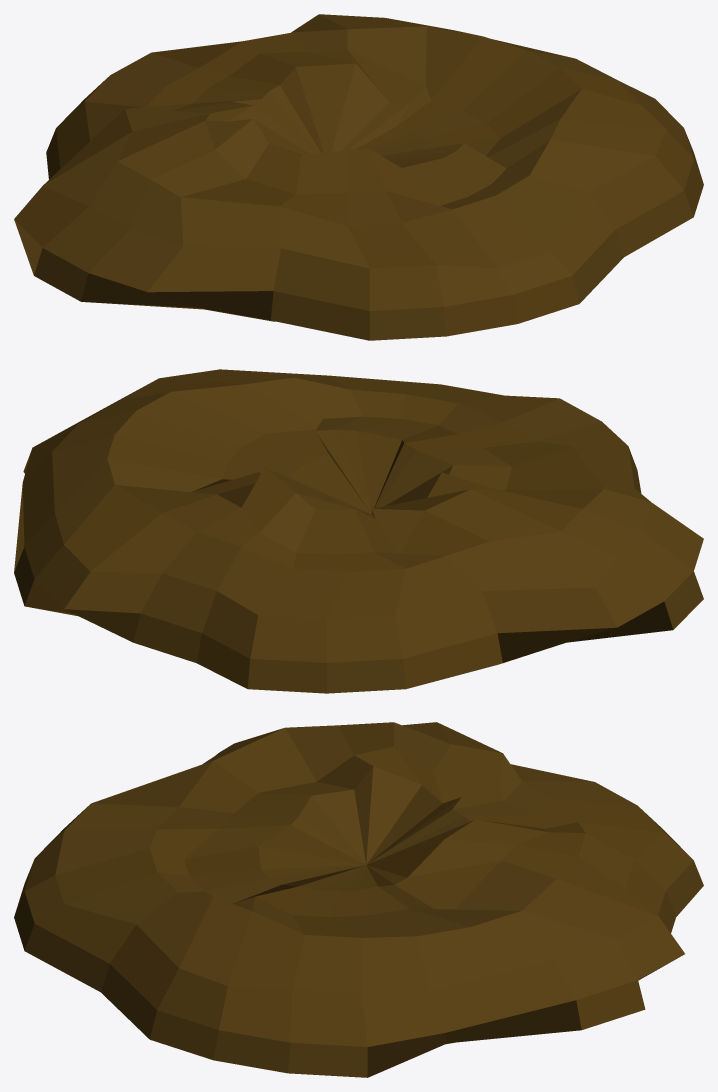
The model's file is mud.fbx.
The picture shows the model from 3 angles, top to bottom: view 1: azimuth 30°, elevation 25°; view 2: azimuth 150°, elevation 25°; view 3: azimuth 270°, elevation 25°; orthographic projection. The views are drawn at different scales.
Parts seen in each view (by area): view 1: Sphere; view 2: Sphere; view 3: Sphere.
Part boxes in pixels (box(x1,y1,x2,y2)): Sphere: box(14, 14, 703, 340); Sphere: box(14, 369, 703, 693); Sphere: box(14, 722, 703, 1077).
Bounding box in the file's own units: 262 × 48.26 × 239.
